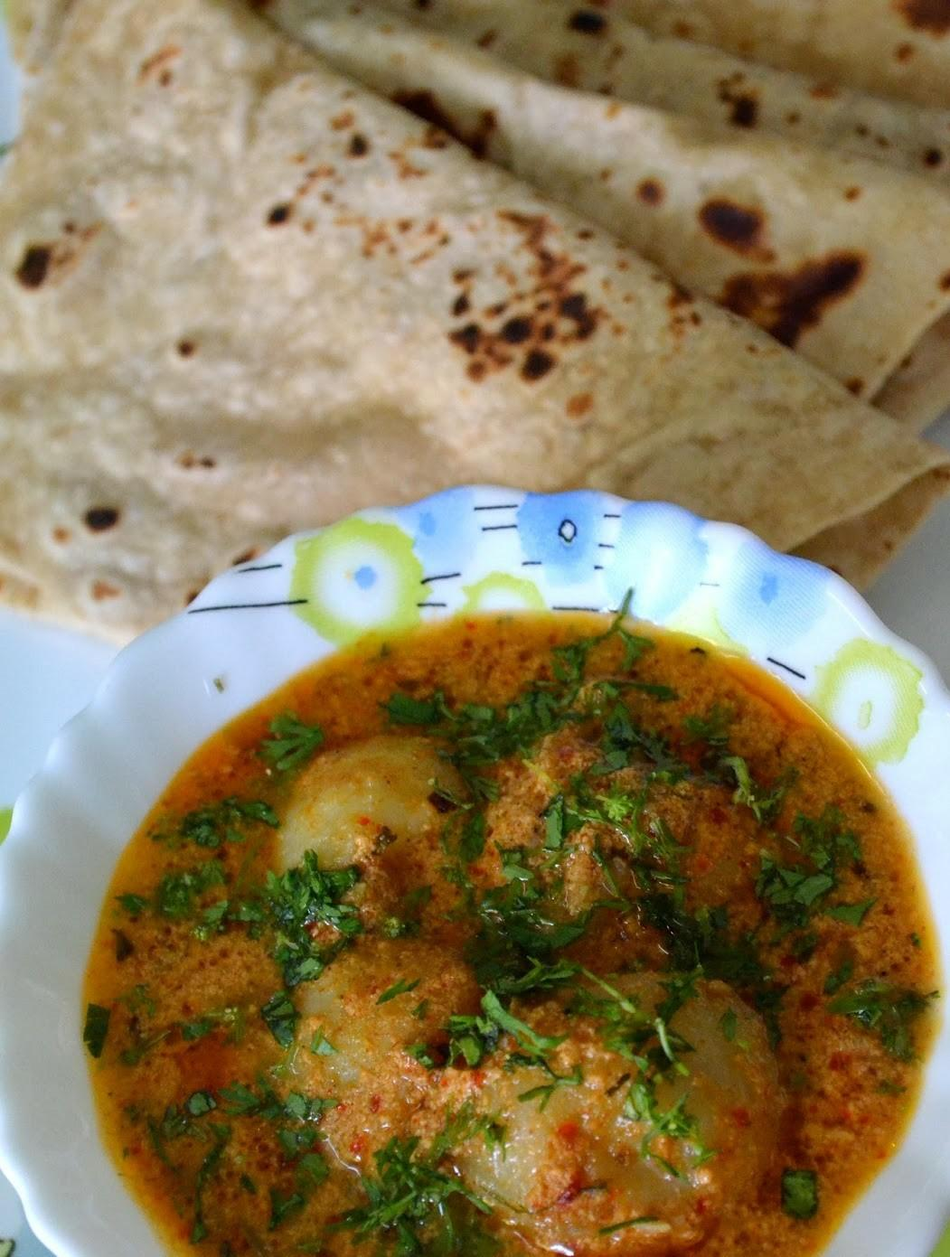DumAloo: (78, 608, 940, 1257)
